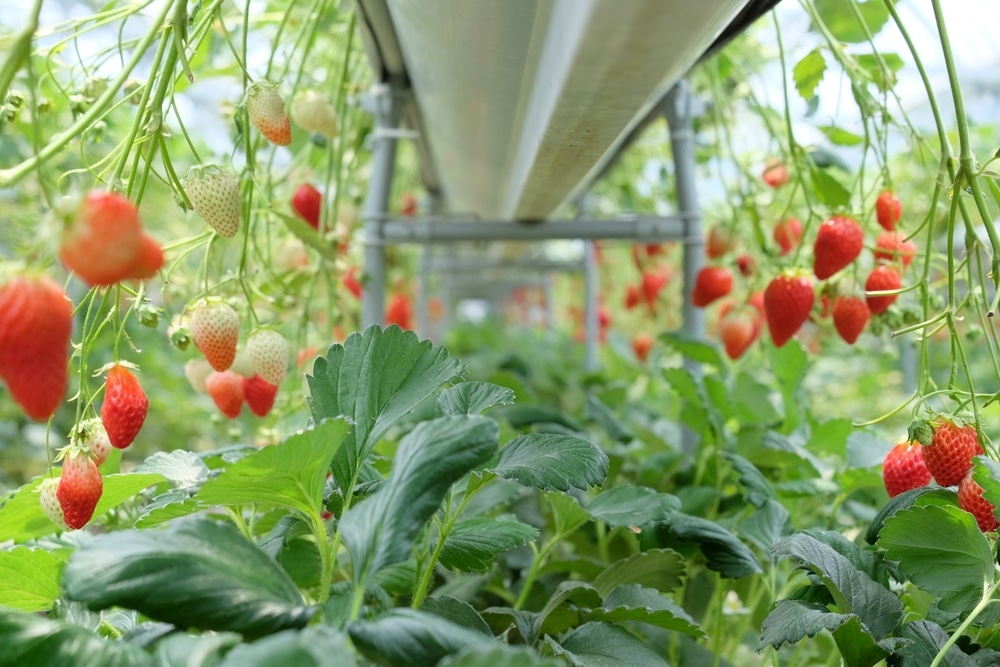green_strawberry: (185, 165, 250, 247), (189, 301, 244, 374), (245, 76, 293, 145), (245, 324, 290, 388), (292, 88, 339, 141), (36, 477, 65, 525)
red_strawberry: (1, 271, 75, 422), (58, 189, 165, 289), (97, 362, 153, 452), (922, 415, 984, 488), (762, 271, 814, 346), (811, 214, 868, 280), (58, 452, 104, 526), (879, 441, 932, 498), (238, 370, 284, 426), (961, 465, 996, 531), (723, 305, 763, 357), (204, 376, 250, 421), (832, 293, 868, 344), (692, 262, 730, 306), (866, 267, 899, 314), (290, 182, 325, 226), (873, 233, 914, 269), (869, 190, 904, 231), (771, 213, 804, 255), (640, 262, 670, 300), (761, 159, 794, 191), (635, 334, 654, 361)
